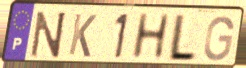1: (112, 12, 131, 61)
G: (202, 14, 236, 62)
H: (129, 12, 173, 62)
K: (67, 12, 99, 60)
L: (165, 13, 198, 64)
N: (29, 10, 68, 60)
